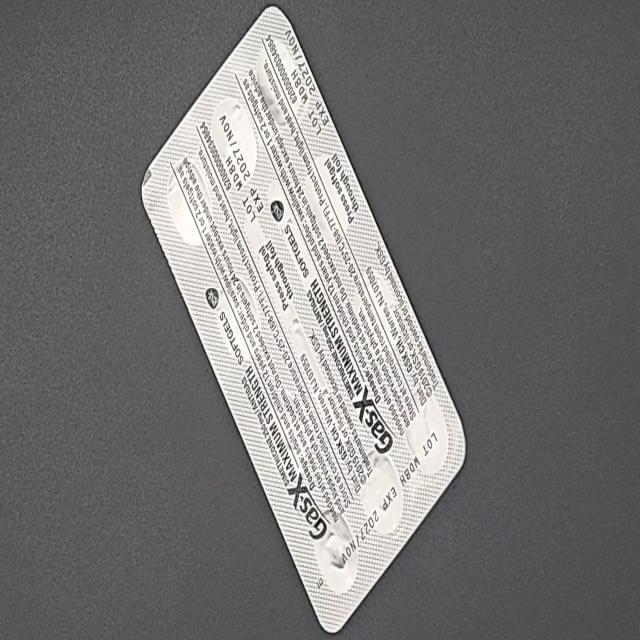no defect: (8, 16, 36, 68)
